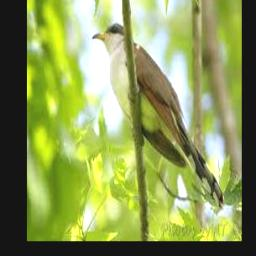Cuckoo: (91, 23, 224, 206)
